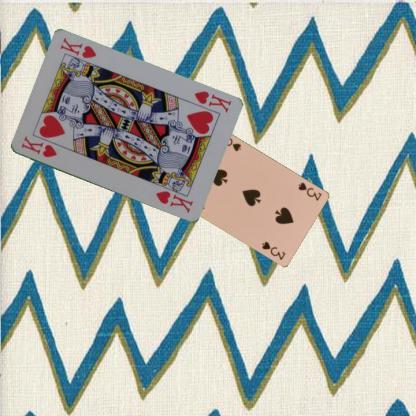3s: (296, 180, 323, 202)
Kh: (191, 88, 232, 114), (18, 134, 58, 160)
